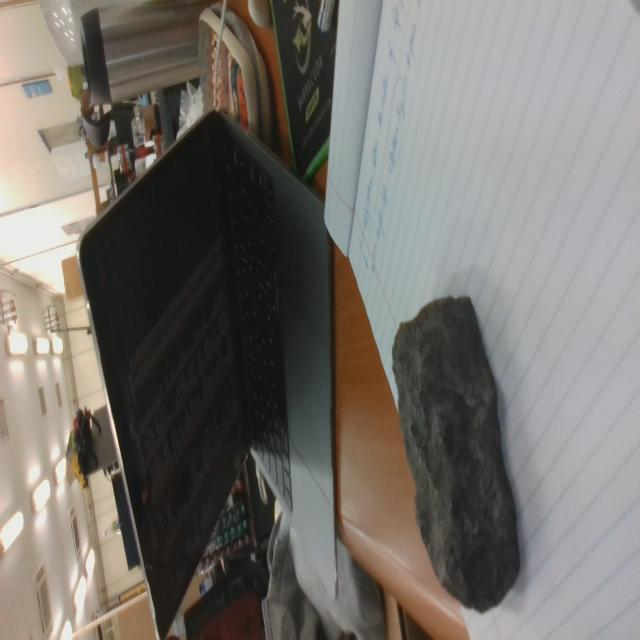stone: (392, 296, 520, 614)
